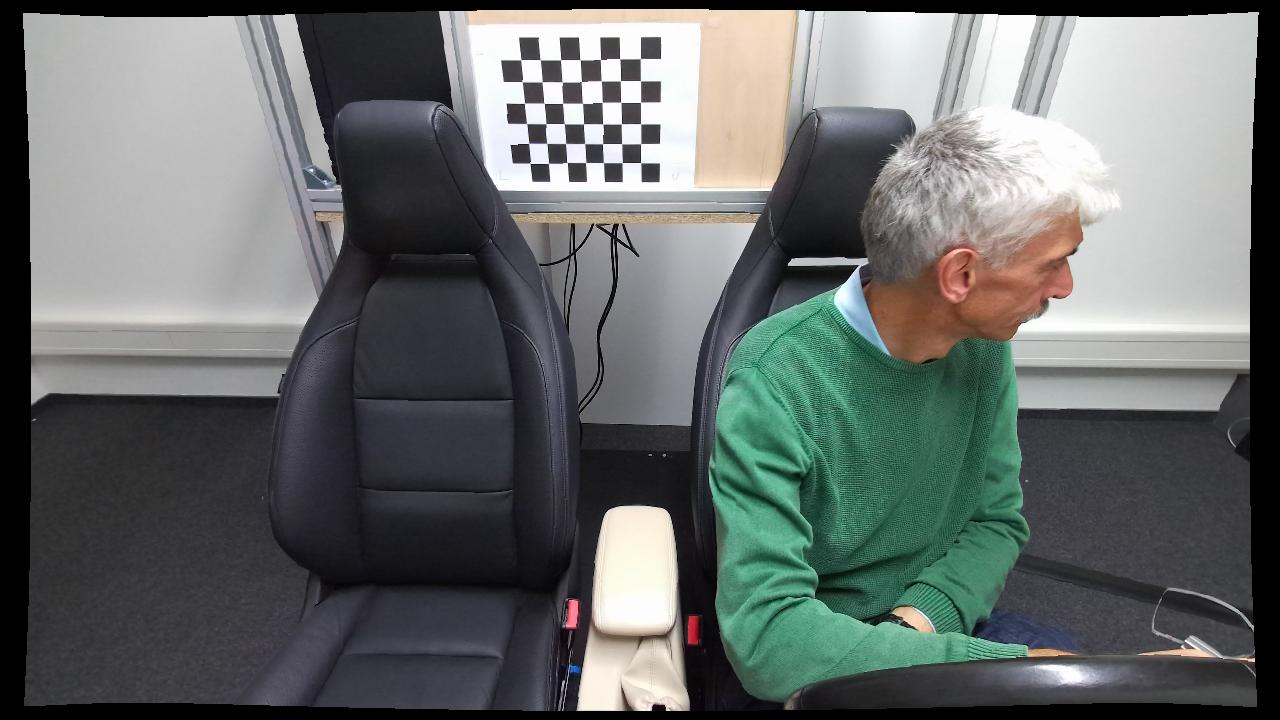Distracted: (702, 92, 1169, 713)
